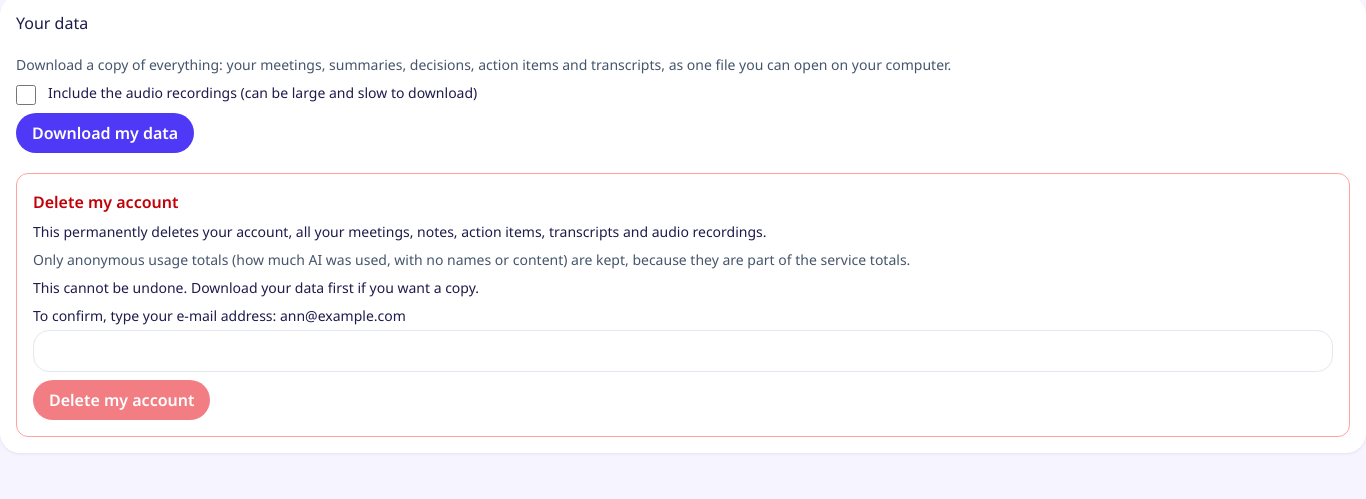
Test: delete account › on failure shows the server message, keeps the data on this device and stays signed in
Type "ann@example.com" into the field named "Type your e-mail to confirm".
click(683, 351); type("ann@example.com")  # box 33,330 -> 1333,372
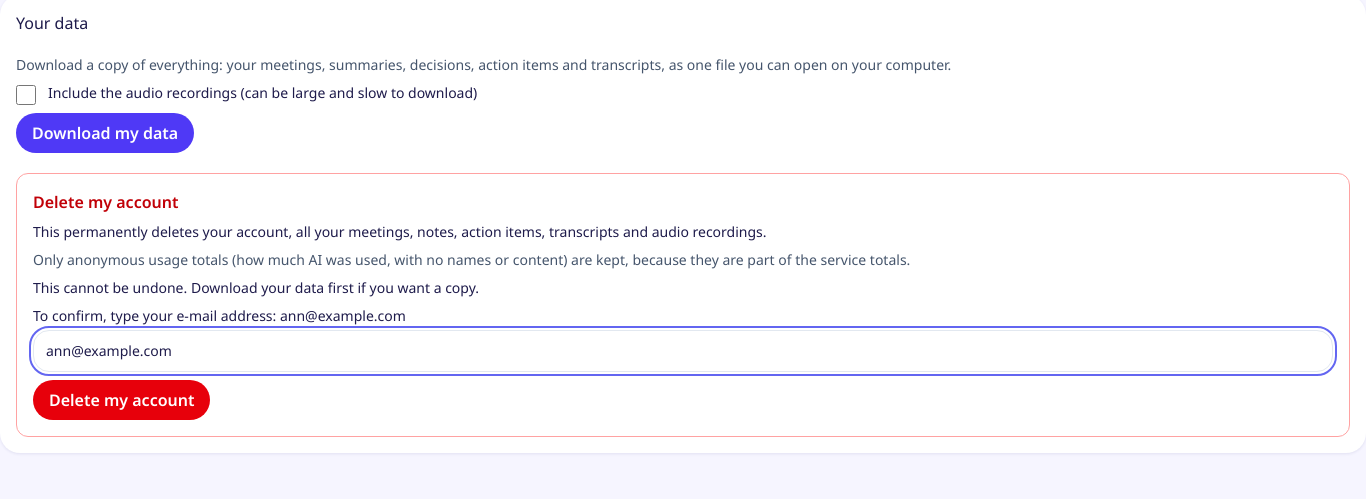
Click the button "Delete my account".
click(122, 400)  # box 33,380 -> 210,420
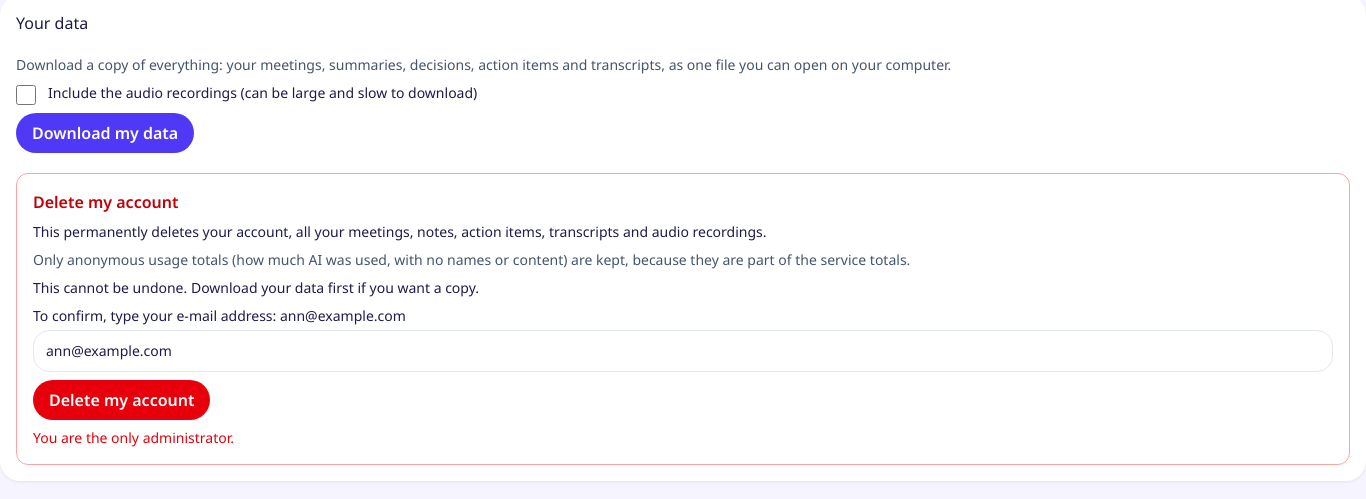
Expected: the button "Delete my account" is enabled, 33,380 -> 210,420
Expected: the message reads "You are the only administrator.", 33,428 -> 234,447
